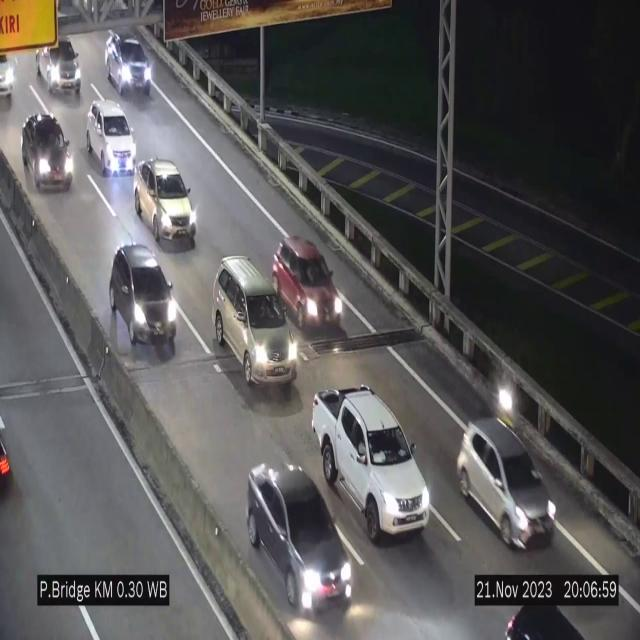Car: (312, 387, 430, 541), (246, 464, 352, 612), (208, 253, 300, 395), (456, 419, 554, 549), (273, 226, 345, 330), (111, 243, 178, 353), (134, 158, 197, 246), (23, 111, 79, 197), (86, 100, 136, 176), (32, 36, 84, 98), (105, 32, 153, 98)
Motorcycle: (489, 364, 516, 432)
